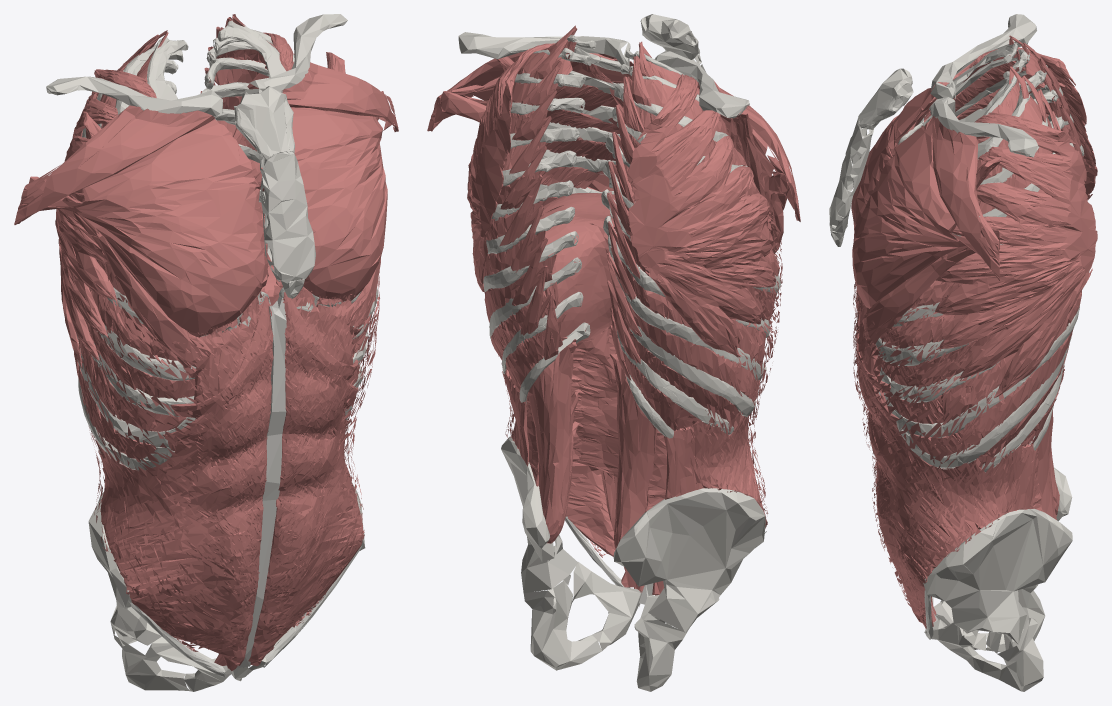
The model's file is v3-musc-thorax-abd.glb.
The picture shows the model from 3 angles, left to right: view 1: azimuth 30°, elevation 25°; view 2: azimuth 150°, elevation 25°; view 3: azimuth 270°, elevation 25°; orthographic projection. The views are drawn at different scales.
Parts seen in each view (by area): view 1: Internal abdominal oblique muscle.r#8, Sternocostal head of pectoralis major muscle.r#30, External abdominal oblique muscle.r#11, Internal abdominal oblique muscle.l#7, Sternocostal head of pectoralis major muscle.l#24, External abdominal oblique muscle.l#9, Serratus anterior muscle.r#43, Clavicular head of pectoralis major muscle.r#32, Body of sternum#83, Linea alba#4, External intercostal muscles.r#45, Clavicular head of pectoralis major muscle.l#26 (+25 smaller); view 2: Serratus anterior muscle.r#43, Hip bone.r#56, External intercostal muscles.r#45, Transversus abdominis muscle.l#5, External intercostal muscles.l#38, Levatores longi costarum.l#18, Quadratus lumborum muscle.l#0, Levatores longi costarum.r#20, Diaphragm_node#47, Serratus anterior muscle.l#36, Internal abdominal oblique muscle.r#8, Quadratus lumborum muscle.r#2 (+38 smaller); view 3: Serratus anterior muscle.l#36, External abdominal oblique muscle.l#9, Internal abdominal oblique muscle.l#7, Sternocostal head of pectoralis major muscle.l#24, Hip bone.l#52, External intercostal muscles.l#38, Clavicular head of pectoralis major muscle.l#26, Sternocostal head of pectoralis major muscle.r#30, Hip bone.l#49, (Abdominal part of pectoralis major muscle).l#22, Internal intercostal muscles.l#37, Body of sternum#83 (+30 smaller).
Part boxes in pixels (x1,y1,x2,y2): Internal abdominal oblique muscle.r#8: [98, 296, 273, 665]; Sternocostal head of pectoralis major muscle.r#30: [76, 118, 269, 337]; External abdominal oblique muscle.r#11: [78, 262, 273, 651]; Internal abdominal oblique muscle.l#7: [248, 292, 364, 662]; Sternocostal head of pectoralis major muscle.l#24: [291, 107, 387, 301]; External abdominal oblique muscle.l#9: [259, 271, 379, 644]; Serratus anterior muscle.r#43: [55, 69, 156, 367]; Clavicular head of pectoralis major muscle.r#32: [34, 105, 215, 213]; Body of sternum#83: [260, 150, 315, 283]; Linea alba#4: [236, 296, 286, 667]; External intercostal muscles.r#45: [74, 51, 153, 445]; Clavicular head of pectoralis major muscle.l#26: [282, 62, 394, 125]; Serratus anterior muscle.r#43: [627, 74, 775, 357]; Hip bone.r#56: [613, 488, 765, 632]; External intercostal muscles.r#45: [610, 57, 779, 430]; Transversus abdominis muscle.l#5: [526, 323, 641, 592]; External intercostal muscles.l#38: [483, 41, 612, 392]; Levatores longi costarum.l#18: [499, 25, 575, 359]; Quadratus lumborum muscle.l#0: [528, 339, 579, 543]; Levatores longi costarum.r#20: [607, 41, 654, 380]; Diaphragm_node#47: [511, 193, 739, 430]; Serratus anterior muscle.l#36: [467, 43, 554, 292]; Internal abdominal oblique muscle.r#8: [664, 413, 767, 528]; Quadratus lumborum muscle.r#2: [609, 353, 657, 548]; Serratus anterior muscle.l#36: [935, 112, 1097, 398]; External abdominal oblique muscle.l#9: [853, 280, 1033, 621]; Internal abdominal oblique muscle.l#7: [856, 297, 1037, 622]; Sternocostal head of pectoralis major muscle.l#24: [852, 121, 967, 308]; Hip bone.l#52: [923, 508, 1072, 644]; External intercostal muscles.l#38: [898, 80, 1081, 464]; Clavicular head of pectoralis major muscle.l#26: [932, 116, 983, 259]; Sternocostal head of pectoralis major muscle.r#30: [851, 88, 937, 229]; Hip bone.l#49: [982, 617, 1043, 691]; (Abdominal part of pectoralis major muscle).l#22: [862, 256, 956, 344]; Internal intercostal muscles.l#37: [877, 326, 1038, 456]; Body of sternum#83: [829, 115, 873, 233].
Bounding box in the file's own units: 0.6088 × 1 × 0.3932.
